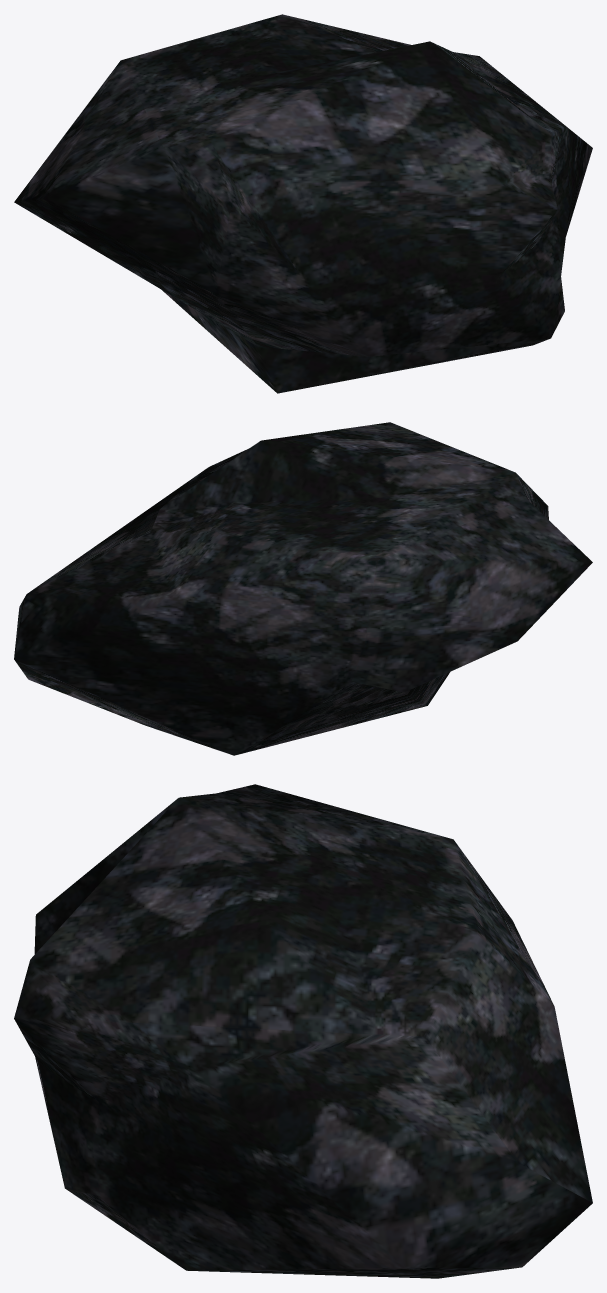
Rendered from asteroid_obsidian_medium_s02_l3.fbx.
3 renders of one model, top to bottom at view 1: azimuth 30°, elevation 25°; view 2: azimuth 150°, elevation 25°; view 3: azimuth 270°, elevation 25°, orthographic. The views are drawn at different scales.
Parts seen in each view (by area): view 1: mesh_node; view 2: mesh_node; view 3: mesh_node.
Boxes of the visible parts, x1,y1,x2,y2 form: mesh_node: (14, 14, 592, 393); mesh_node: (14, 422, 592, 755); mesh_node: (14, 784, 592, 1278).
Bounding box in the file's own units: 86.21 × 39.98 × 65.67.
Materials: 1 (1 with a texture image).
